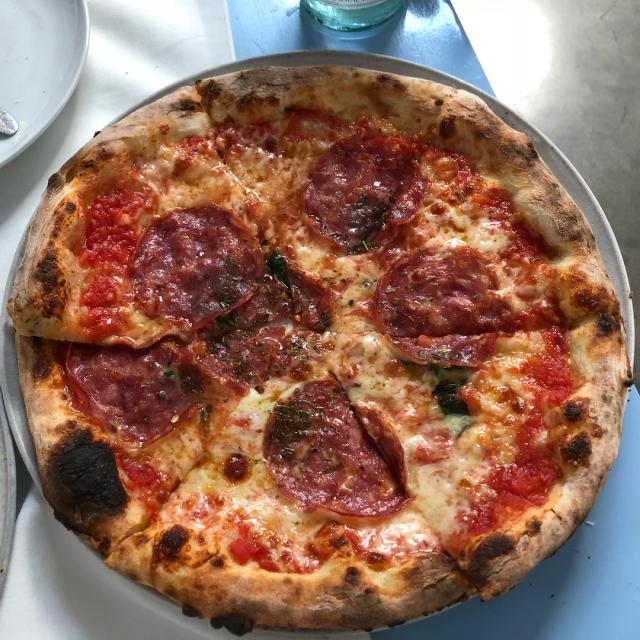basil: (425, 365, 484, 435), (264, 245, 299, 291)
pepperoni: (260, 379, 411, 519), (196, 249, 340, 385), (130, 202, 266, 327), (299, 131, 428, 253), (64, 338, 204, 449), (376, 248, 506, 365)
pizza: (9, 66, 631, 634)
